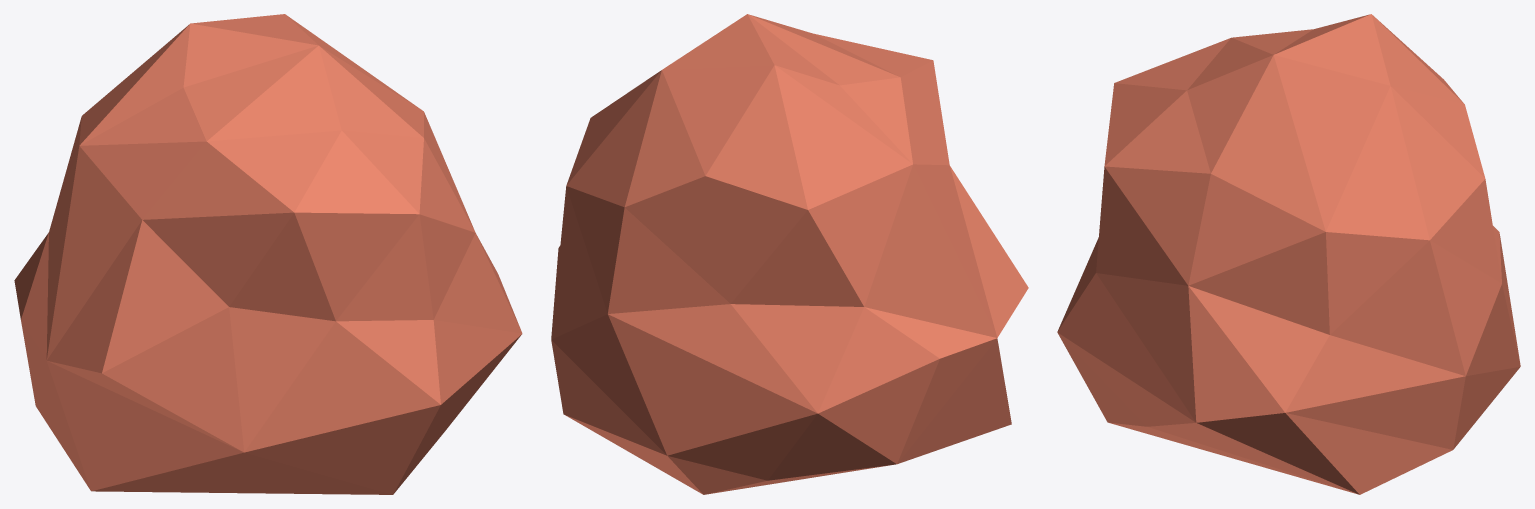
Rendered from FruitSmall.fbx.
3 renders of one model, left to right at view 1: azimuth 30°, elevation 25°; view 2: azimuth 150°, elevation 25°; view 3: azimuth 270°, elevation 25°, orthographic. The views are drawn at different scales.
Visible parts, largest first — view 1: FruitSmall; view 2: FruitSmall; view 3: FruitSmall.
Part boxes in pixels (bbox=[...]): FruitSmall: bbox=[14, 14, 522, 494]; FruitSmall: bbox=[551, 14, 1028, 494]; FruitSmall: bbox=[1057, 14, 1520, 494].
Size of the model in its own units: 71.6 by 61.75 by 66.04.
